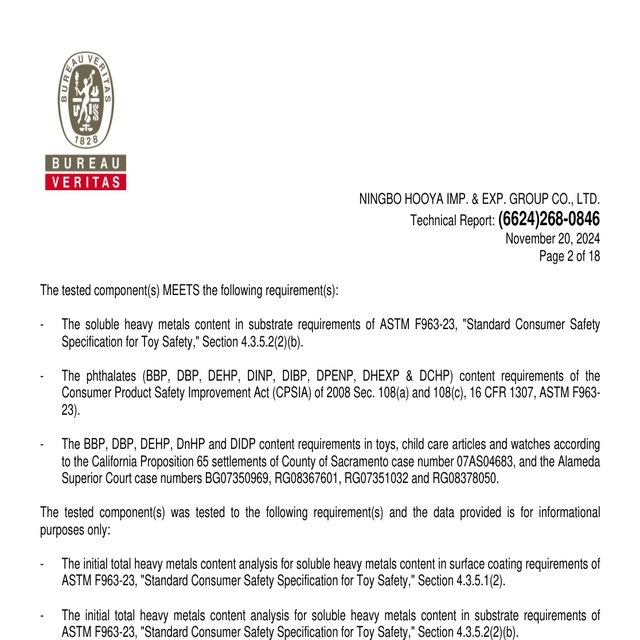bureau_veritas: (42, 48, 131, 195)
